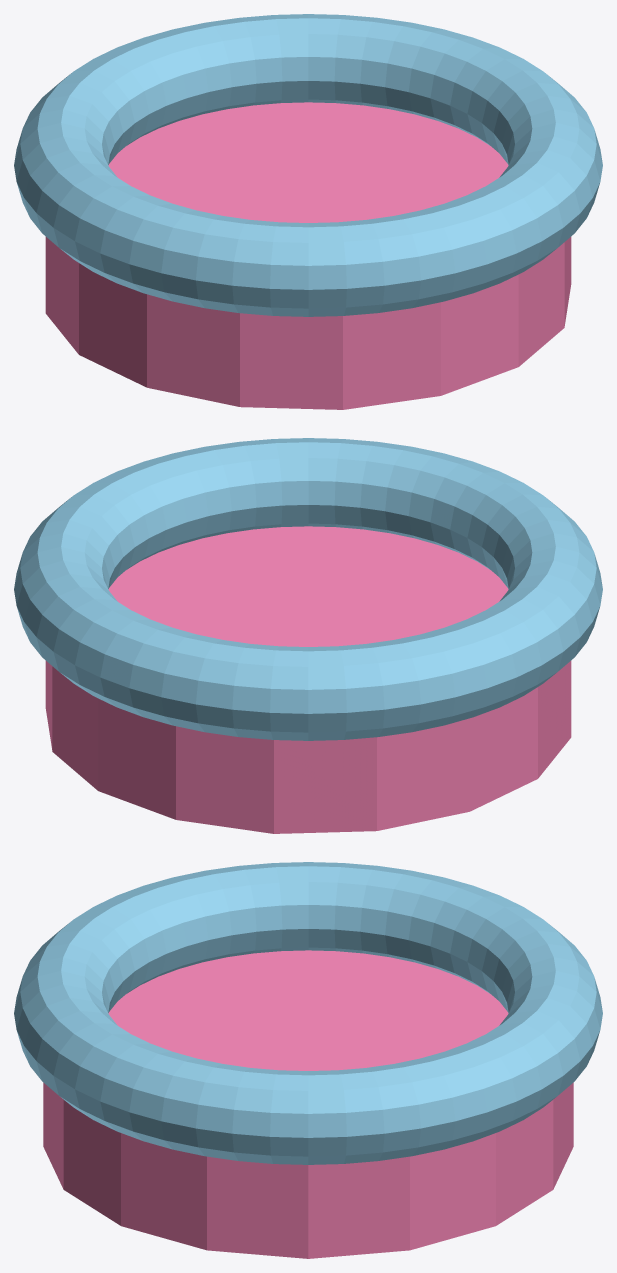
Rendered from hazard_bumper.glb.
3 views of the same model, one above another, from view 1: azimuth 30°, elevation 25°; view 2: azimuth 150°, elevation 25°; view 3: azimuth 270°, elevation 25° (orthographic).
Visible parts, largest first — view 1: hazard_bumper; view 2: hazard_bumper; view 3: hazard_bumper.
Boxes of the visible parts, x1,y1,x2,y2 form: hazard_bumper: [14, 14, 602, 409]; hazard_bumper: [14, 438, 602, 833]; hazard_bumper: [14, 862, 602, 1258].
Size of the model in its own units: 1 by 0.33 by 1.
